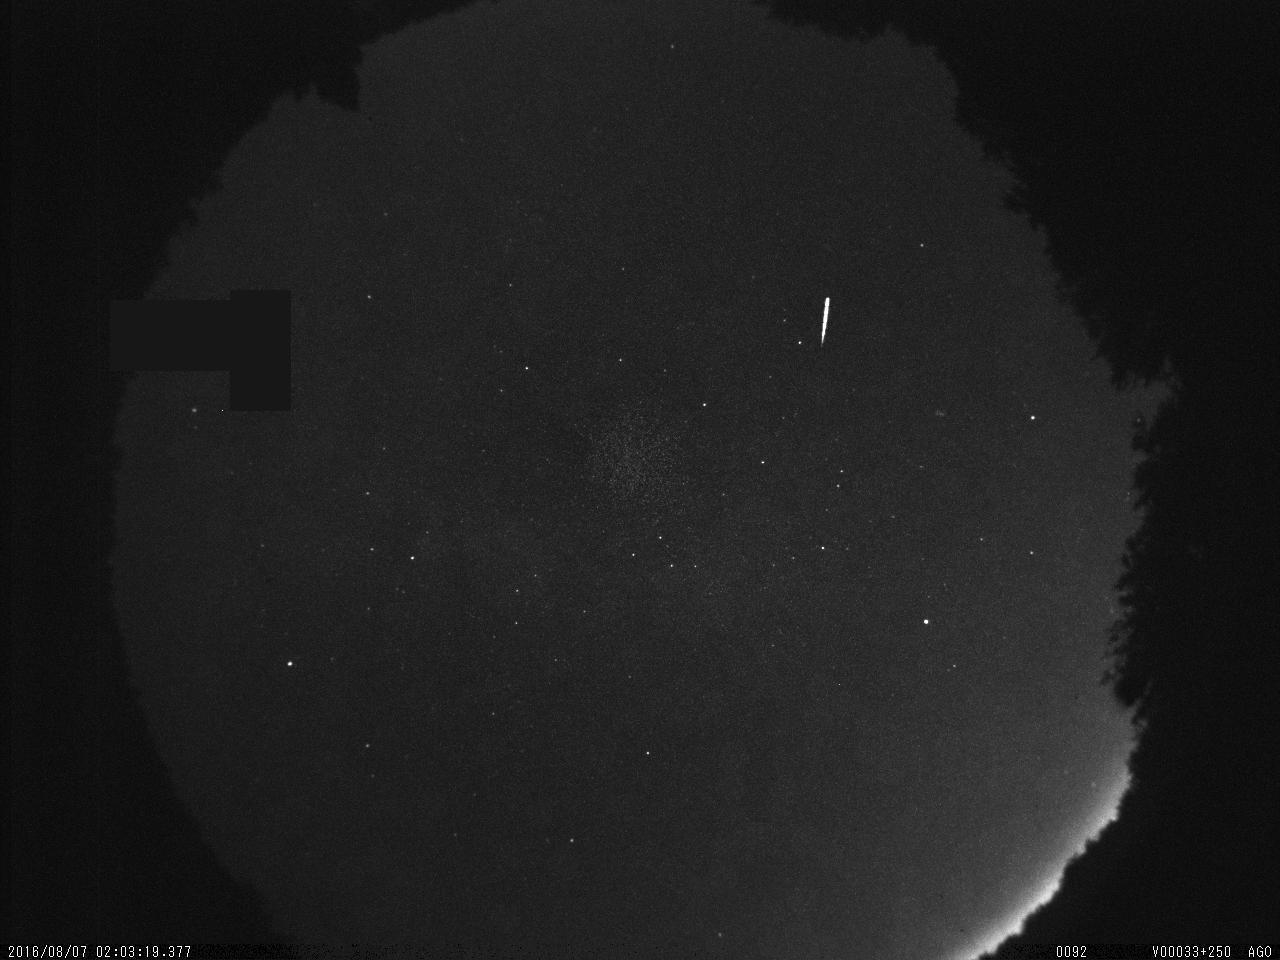meteor: (805, 285, 845, 347)
